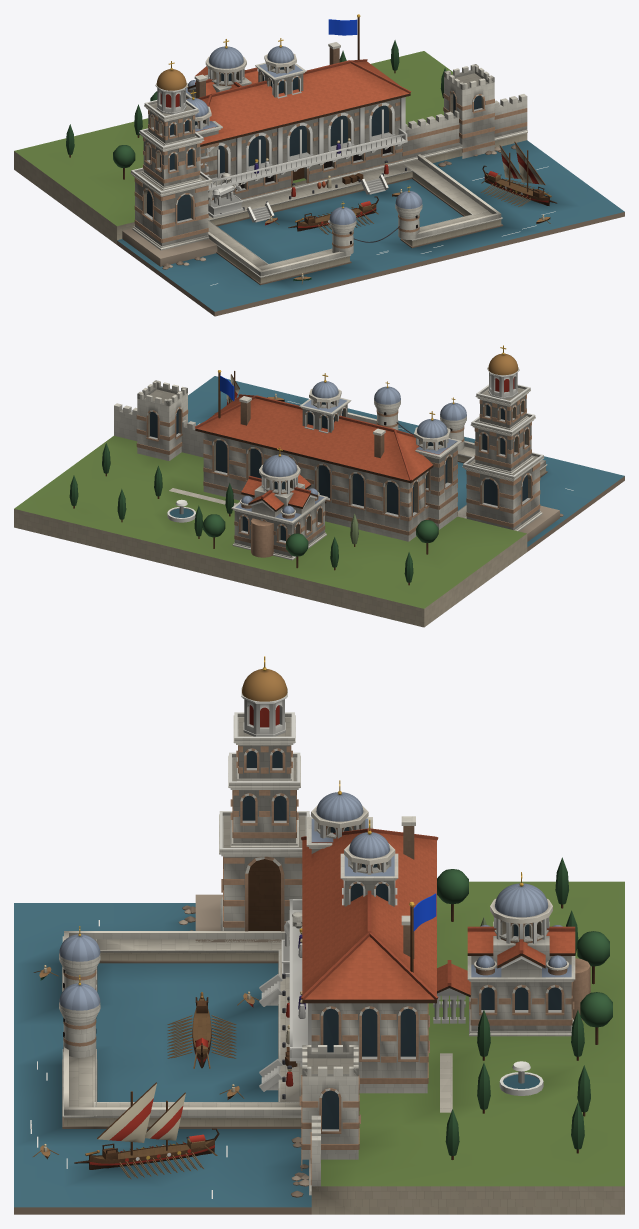
File: lm_bukoleon.glb
The picture shows the model from 3 angles, top to bottom: view 1: azimuth 30°, elevation 25°; view 2: azimuth 150°, elevation 25°; view 3: azimuth 270°, elevation 25°; orthographic projection. The views are drawn at different scales.
Visible parts, largest first — view 1: lm_bukoleon; view 2: lm_bukoleon; view 3: lm_bukoleon.
Part boxes in pixels (x1=…): lm_bukoleon: x1=14, y1=14, x2=624, y2=316; lm_bukoleon: x1=14, y1=345, x2=624, y2=627; lm_bukoleon: x1=14, y1=656, x2=624, y2=1214.
Bounding box in the file's own units: 2.3 × 1 × 1.95.
Materials: 1 (1 with a texture image).
